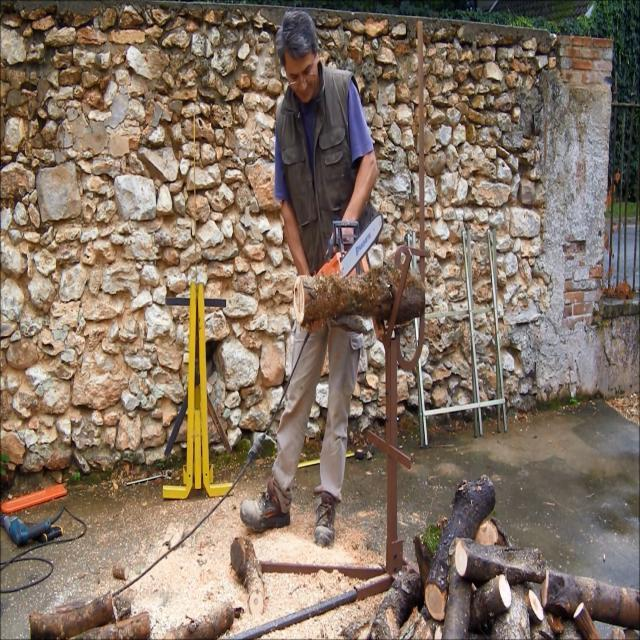Chainsaw: (292, 192, 392, 344)
